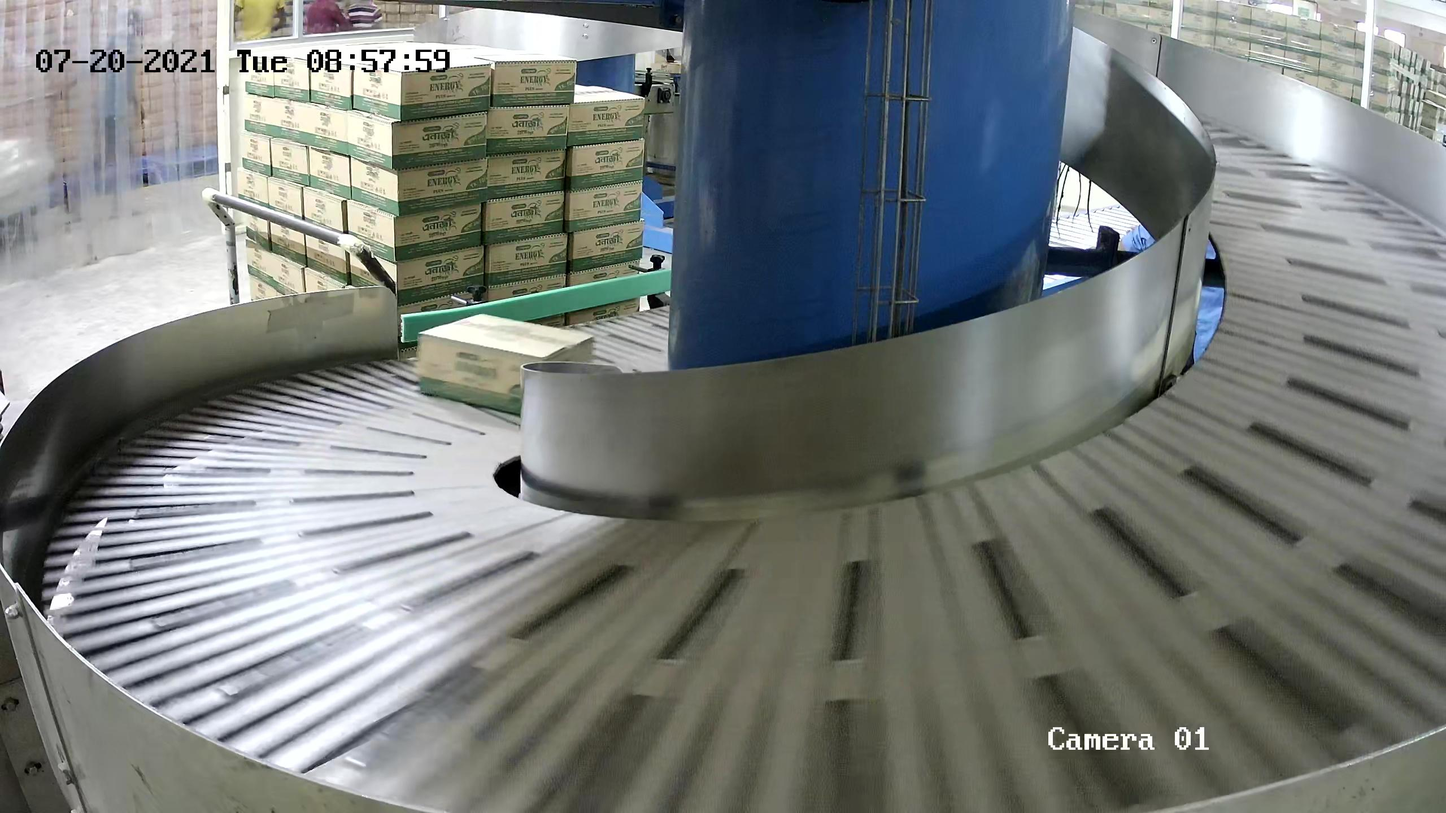Box: (418, 313, 597, 422)
